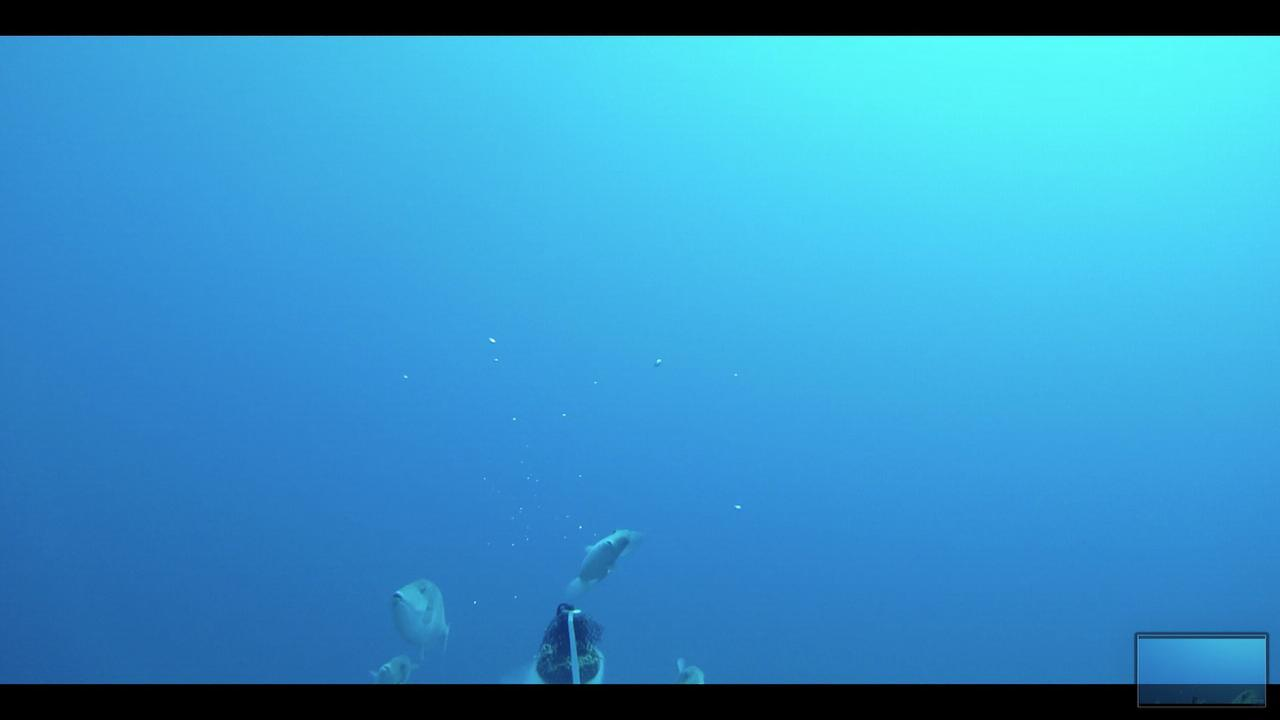balistes: (388, 559, 457, 665), (560, 519, 643, 594)
